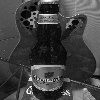beer: (31, 1, 68, 100)
